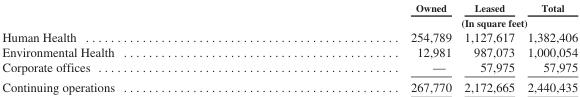table: (1, 1, 577, 94)
table column: (1, 1, 262, 94), (262, 1, 457, 94), (457, 1, 520, 94), (520, 1, 577, 94)
table column header: (1, 1, 577, 28)
table row: (1, 59, 577, 77), (1, 77, 577, 94), (1, 28, 577, 44), (1, 44, 577, 59), (1, 14, 577, 28), (1, 1, 577, 14)
table spanning cell: (262, 14, 577, 28)
